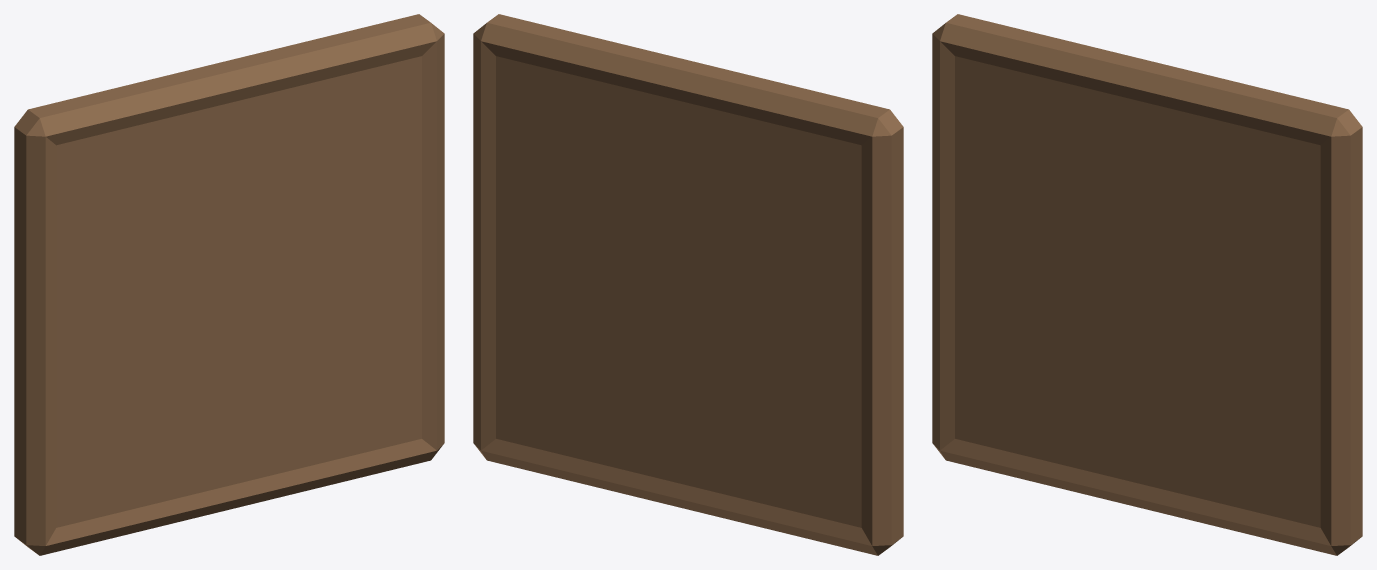
Rendered from Wafel.fbx.
3 renders of one model, left to right at view 1: azimuth 30°, elevation 25°; view 2: azimuth 150°, elevation 25°; view 3: azimuth 330°, elevation 25°, orthographic.
Visible parts, largest first — view 1: Wafel; view 2: Wafel; view 3: Wafel.
Boxes of the visible parts, bbox=[...] form: Wafel: bbox=[14, 14, 444, 555]; Wafel: bbox=[473, 14, 903, 555]; Wafel: bbox=[932, 14, 1362, 555].
Size of the model in its own units: 2.55 by 2.55 by 0.2509.
